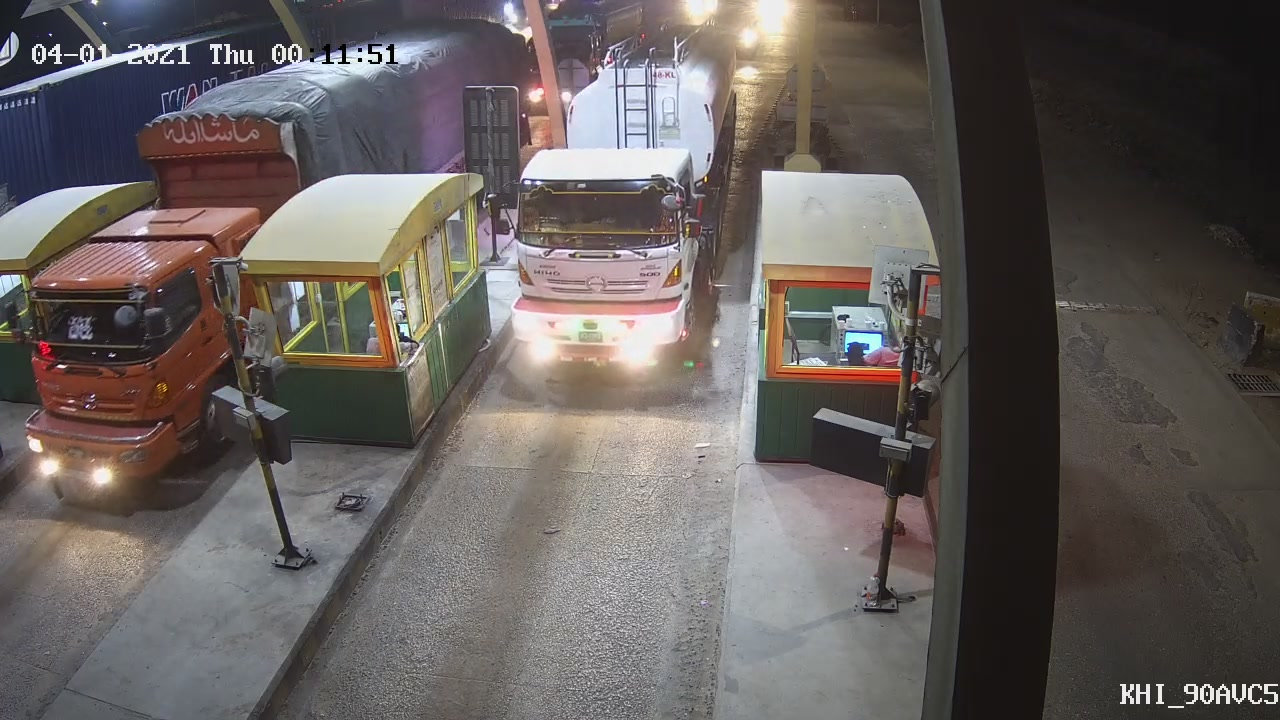F5: (494, 39, 734, 393)
